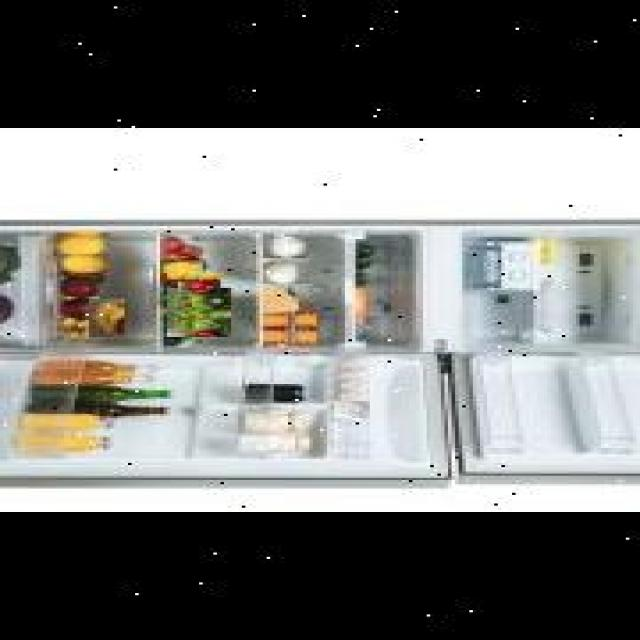apple: (54, 276, 100, 300), (53, 298, 96, 319)
banana: (85, 299, 121, 337)
bell_pepper: (173, 273, 215, 297), (155, 260, 197, 282)
cheese: (254, 280, 300, 314)
egg: (329, 401, 364, 418), (327, 358, 363, 372), (325, 371, 361, 380)
lemon: (49, 234, 106, 259), (53, 255, 107, 276)
milk: (256, 259, 306, 285), (260, 238, 302, 259)
salad: (164, 288, 228, 337)
yogurt: (284, 326, 313, 346), (258, 310, 286, 330), (256, 328, 284, 347), (284, 312, 313, 328)
